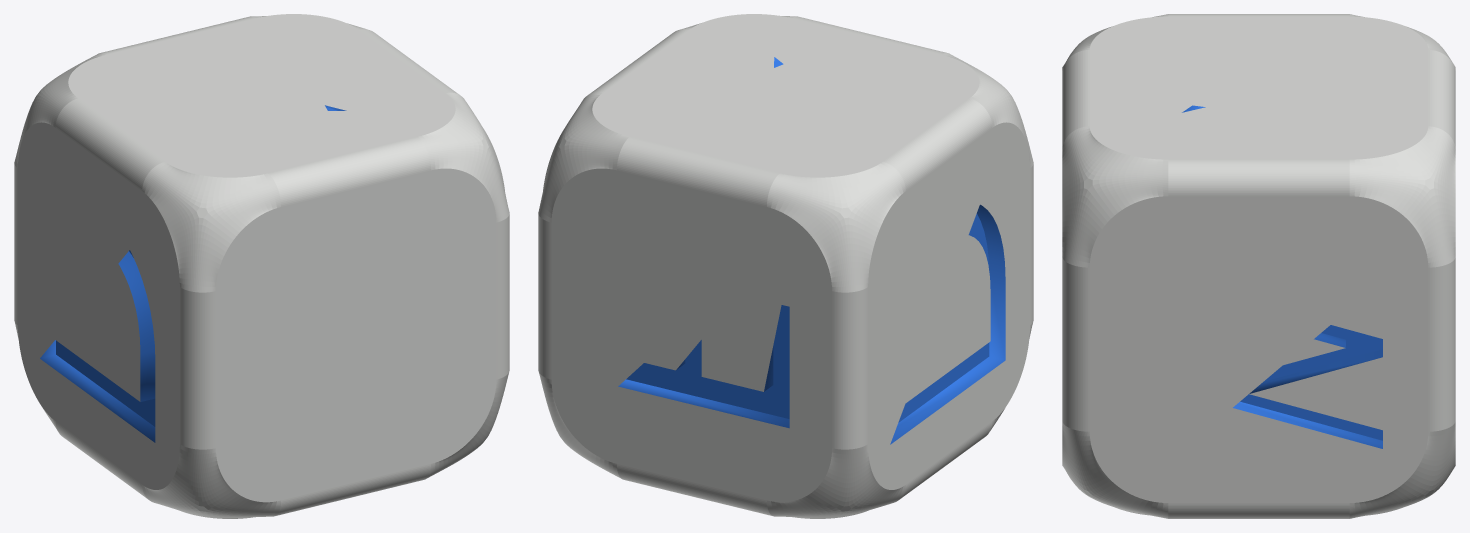
Rendered from BoggleDice.fbx_Die2.fbx.
3 views of the same model, side by side, from view 1: azimuth 30°, elevation 25°; view 2: azimuth 150°, elevation 25°; view 3: azimuth 270°, elevation 25° (orthographic). The views are drawn at different scales.
Parts seen in each view (by area): view 1: Die2; view 2: Die2; view 3: Die2.
Boxes of the visible parts, x1,y1,x2,y2 form: Die2: (14,14,509,518); Die2: (538,14,1033,518); Die2: (1062,14,1455,518).
Bounding box in the file's own units: 200 × 200 × 200.
